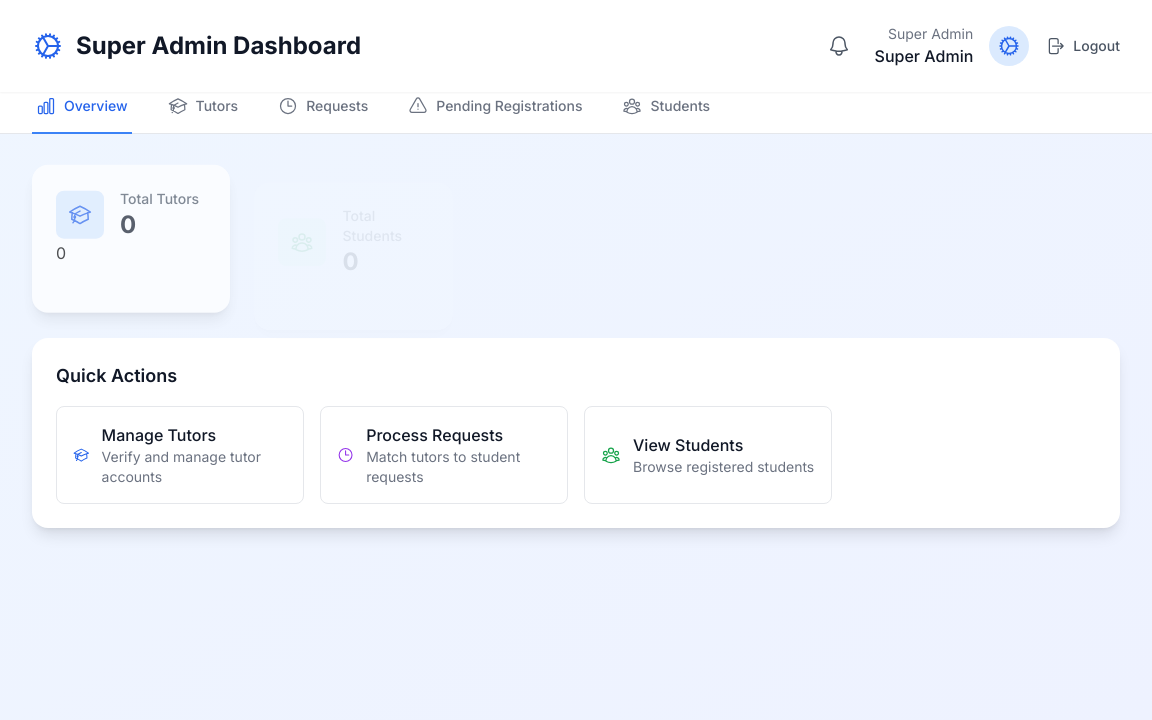
it: Super Admin Notifications Dropdown › closes the dropdown on outside click
Click the button named "0 unread notifications": {"x": 839, "y": 46} [819, 26, 859, 66]
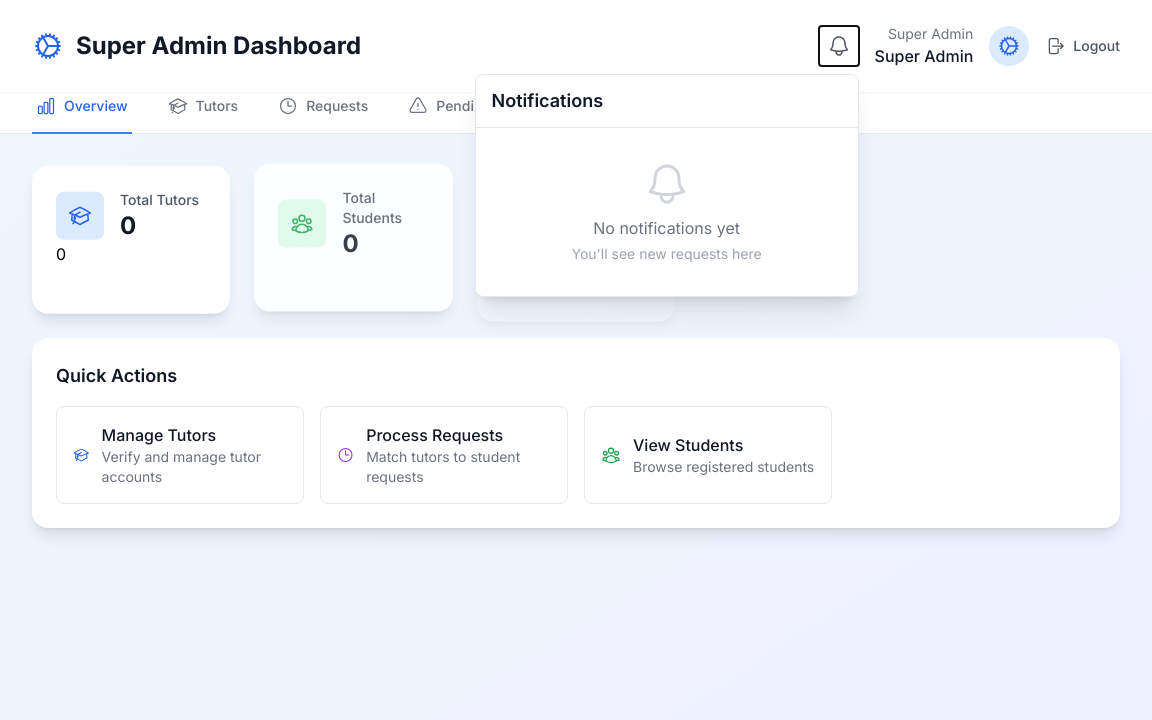
Result: the heading "Notifications" is shown at [492, 87, 603, 115]
Press the mouse on the element that starts with "Super Admin Dashboard": {"x": 576, "y": 360} [0, 0, 1151, 719]
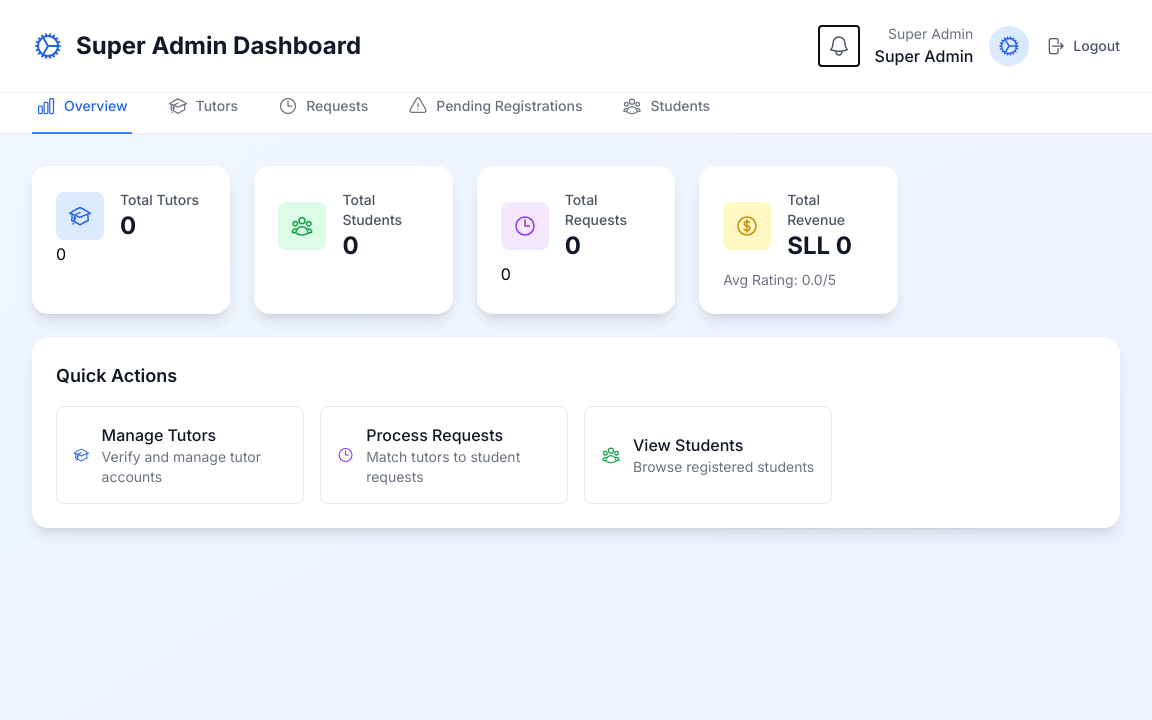
Result: the heading "Notifications" is gone
